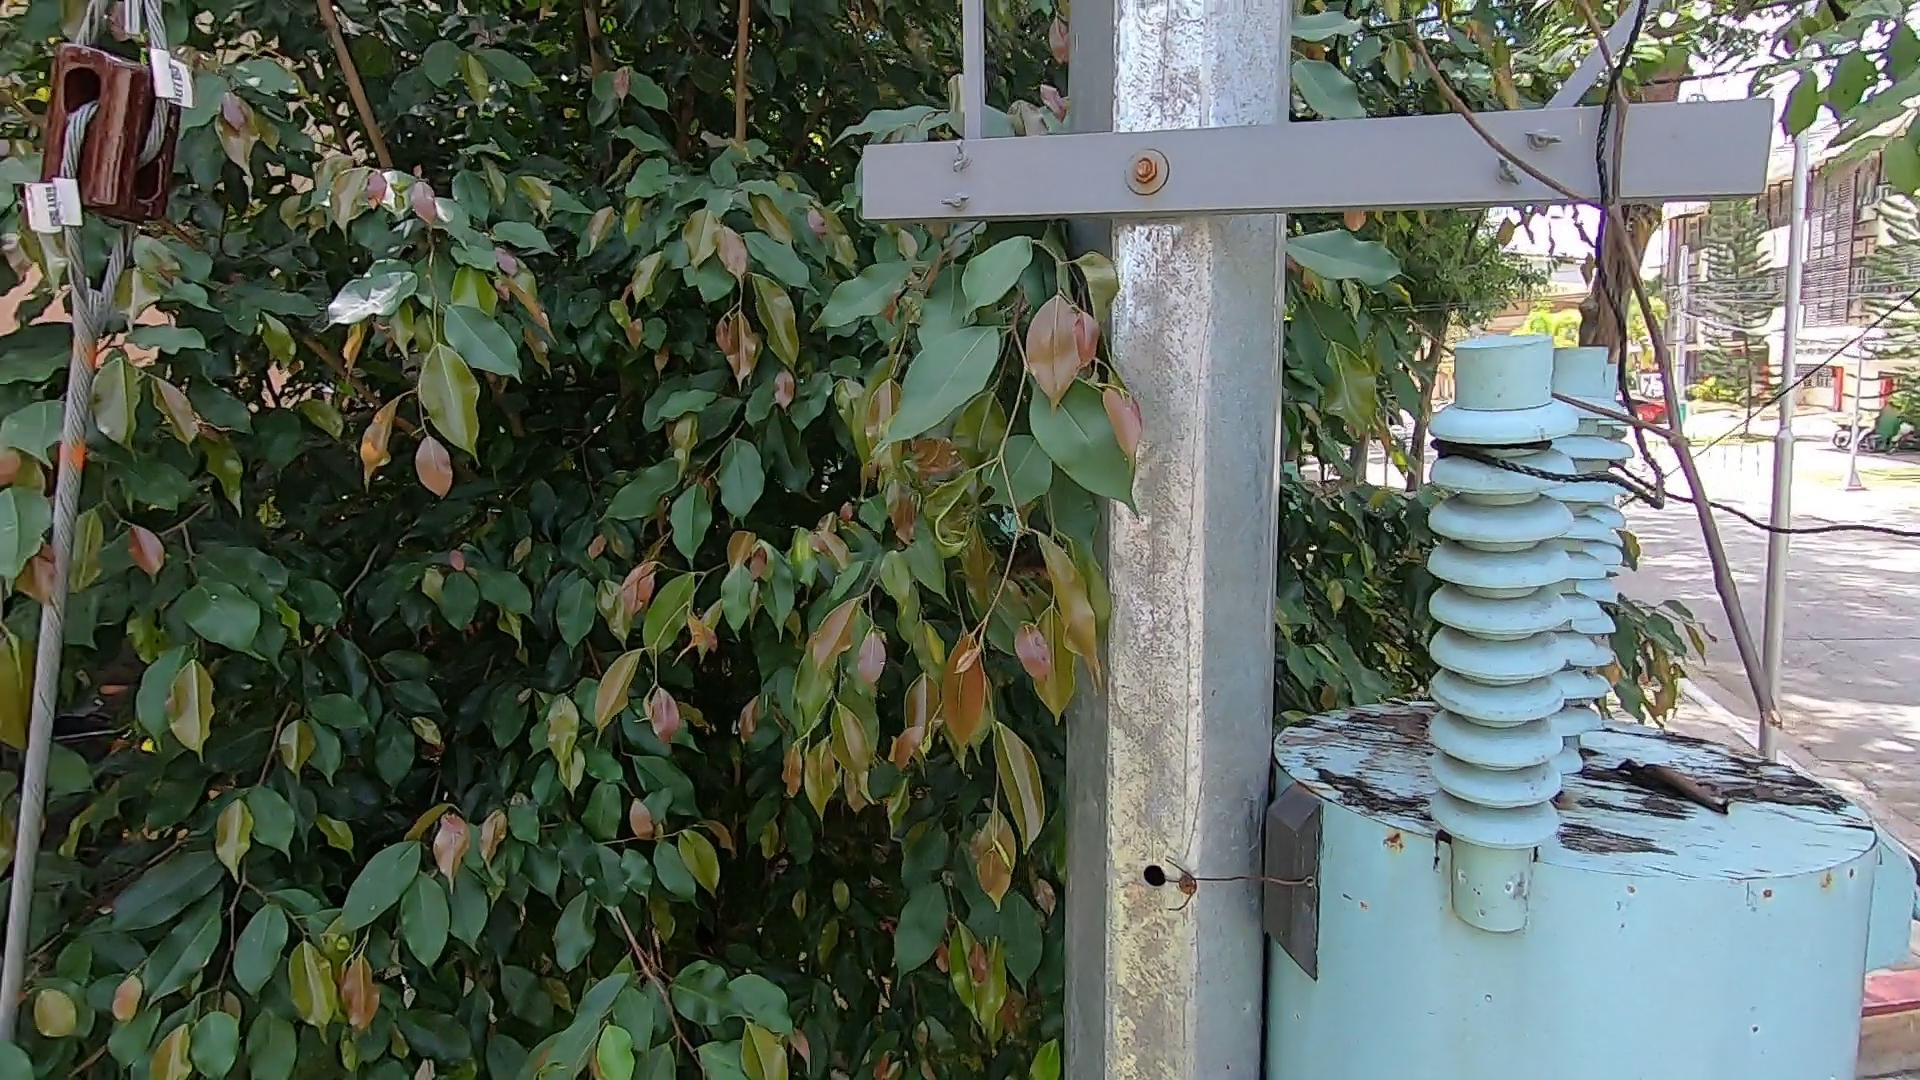leaf: (1604, 742, 1733, 823)
tree branch: (1377, 7, 1792, 727)
